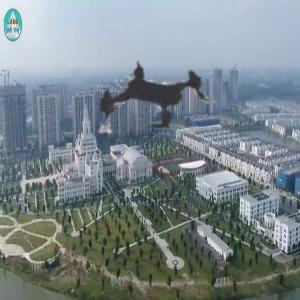drone: (65, 5, 251, 191)
